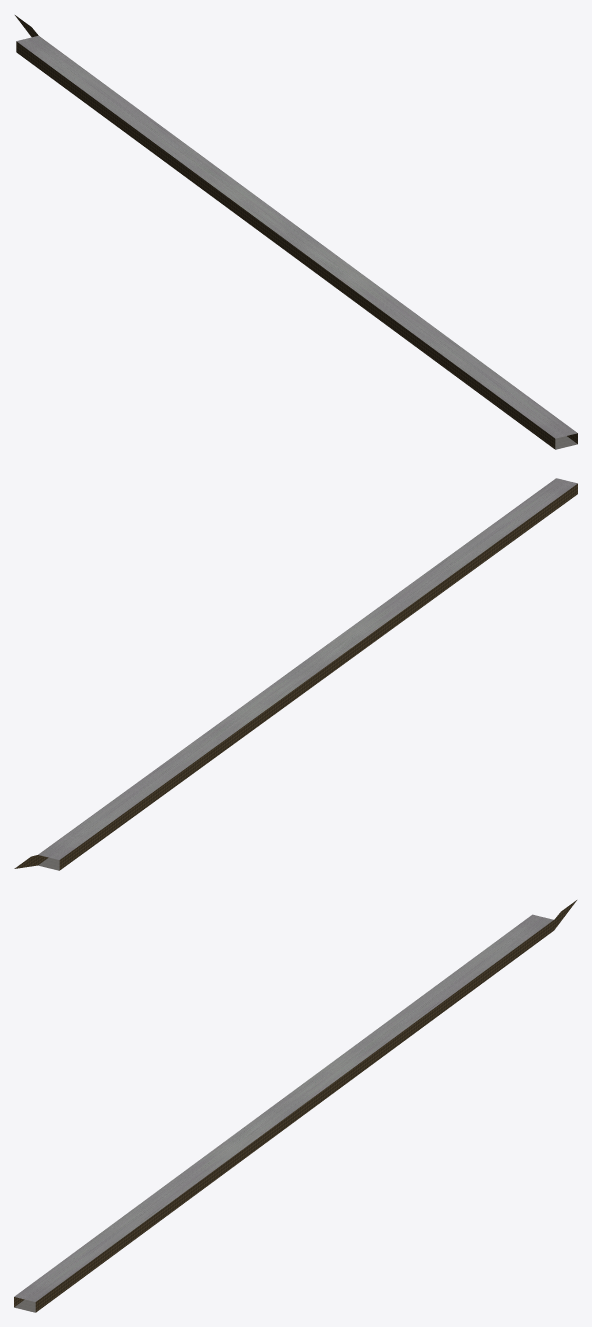
Rendered from tsukubac5.glb.
3 views of the same model, one above another, from view 1: azimuth 30°, elevation 25°; view 2: azimuth 150°, elevation 25°; view 3: azimuth 330°, elevation 25° (orthographic). The views are drawn at different scales.
Visible parts, largest first — view 1: tsukubac5; view 2: tsukubac5; view 3: tsukubac5.
Boxes of the visible parts, x1=… form: tsukubac5: x1=15, y1=15, x2=577, y2=449; tsukubac5: x1=14, y1=478, x2=577, y2=870; tsukubac5: x1=14, y1=900, x2=576, y2=1312.
Bounding box in the file's own units: 9.06 × 6.67 × 392.
3 materials, 3 textured.
